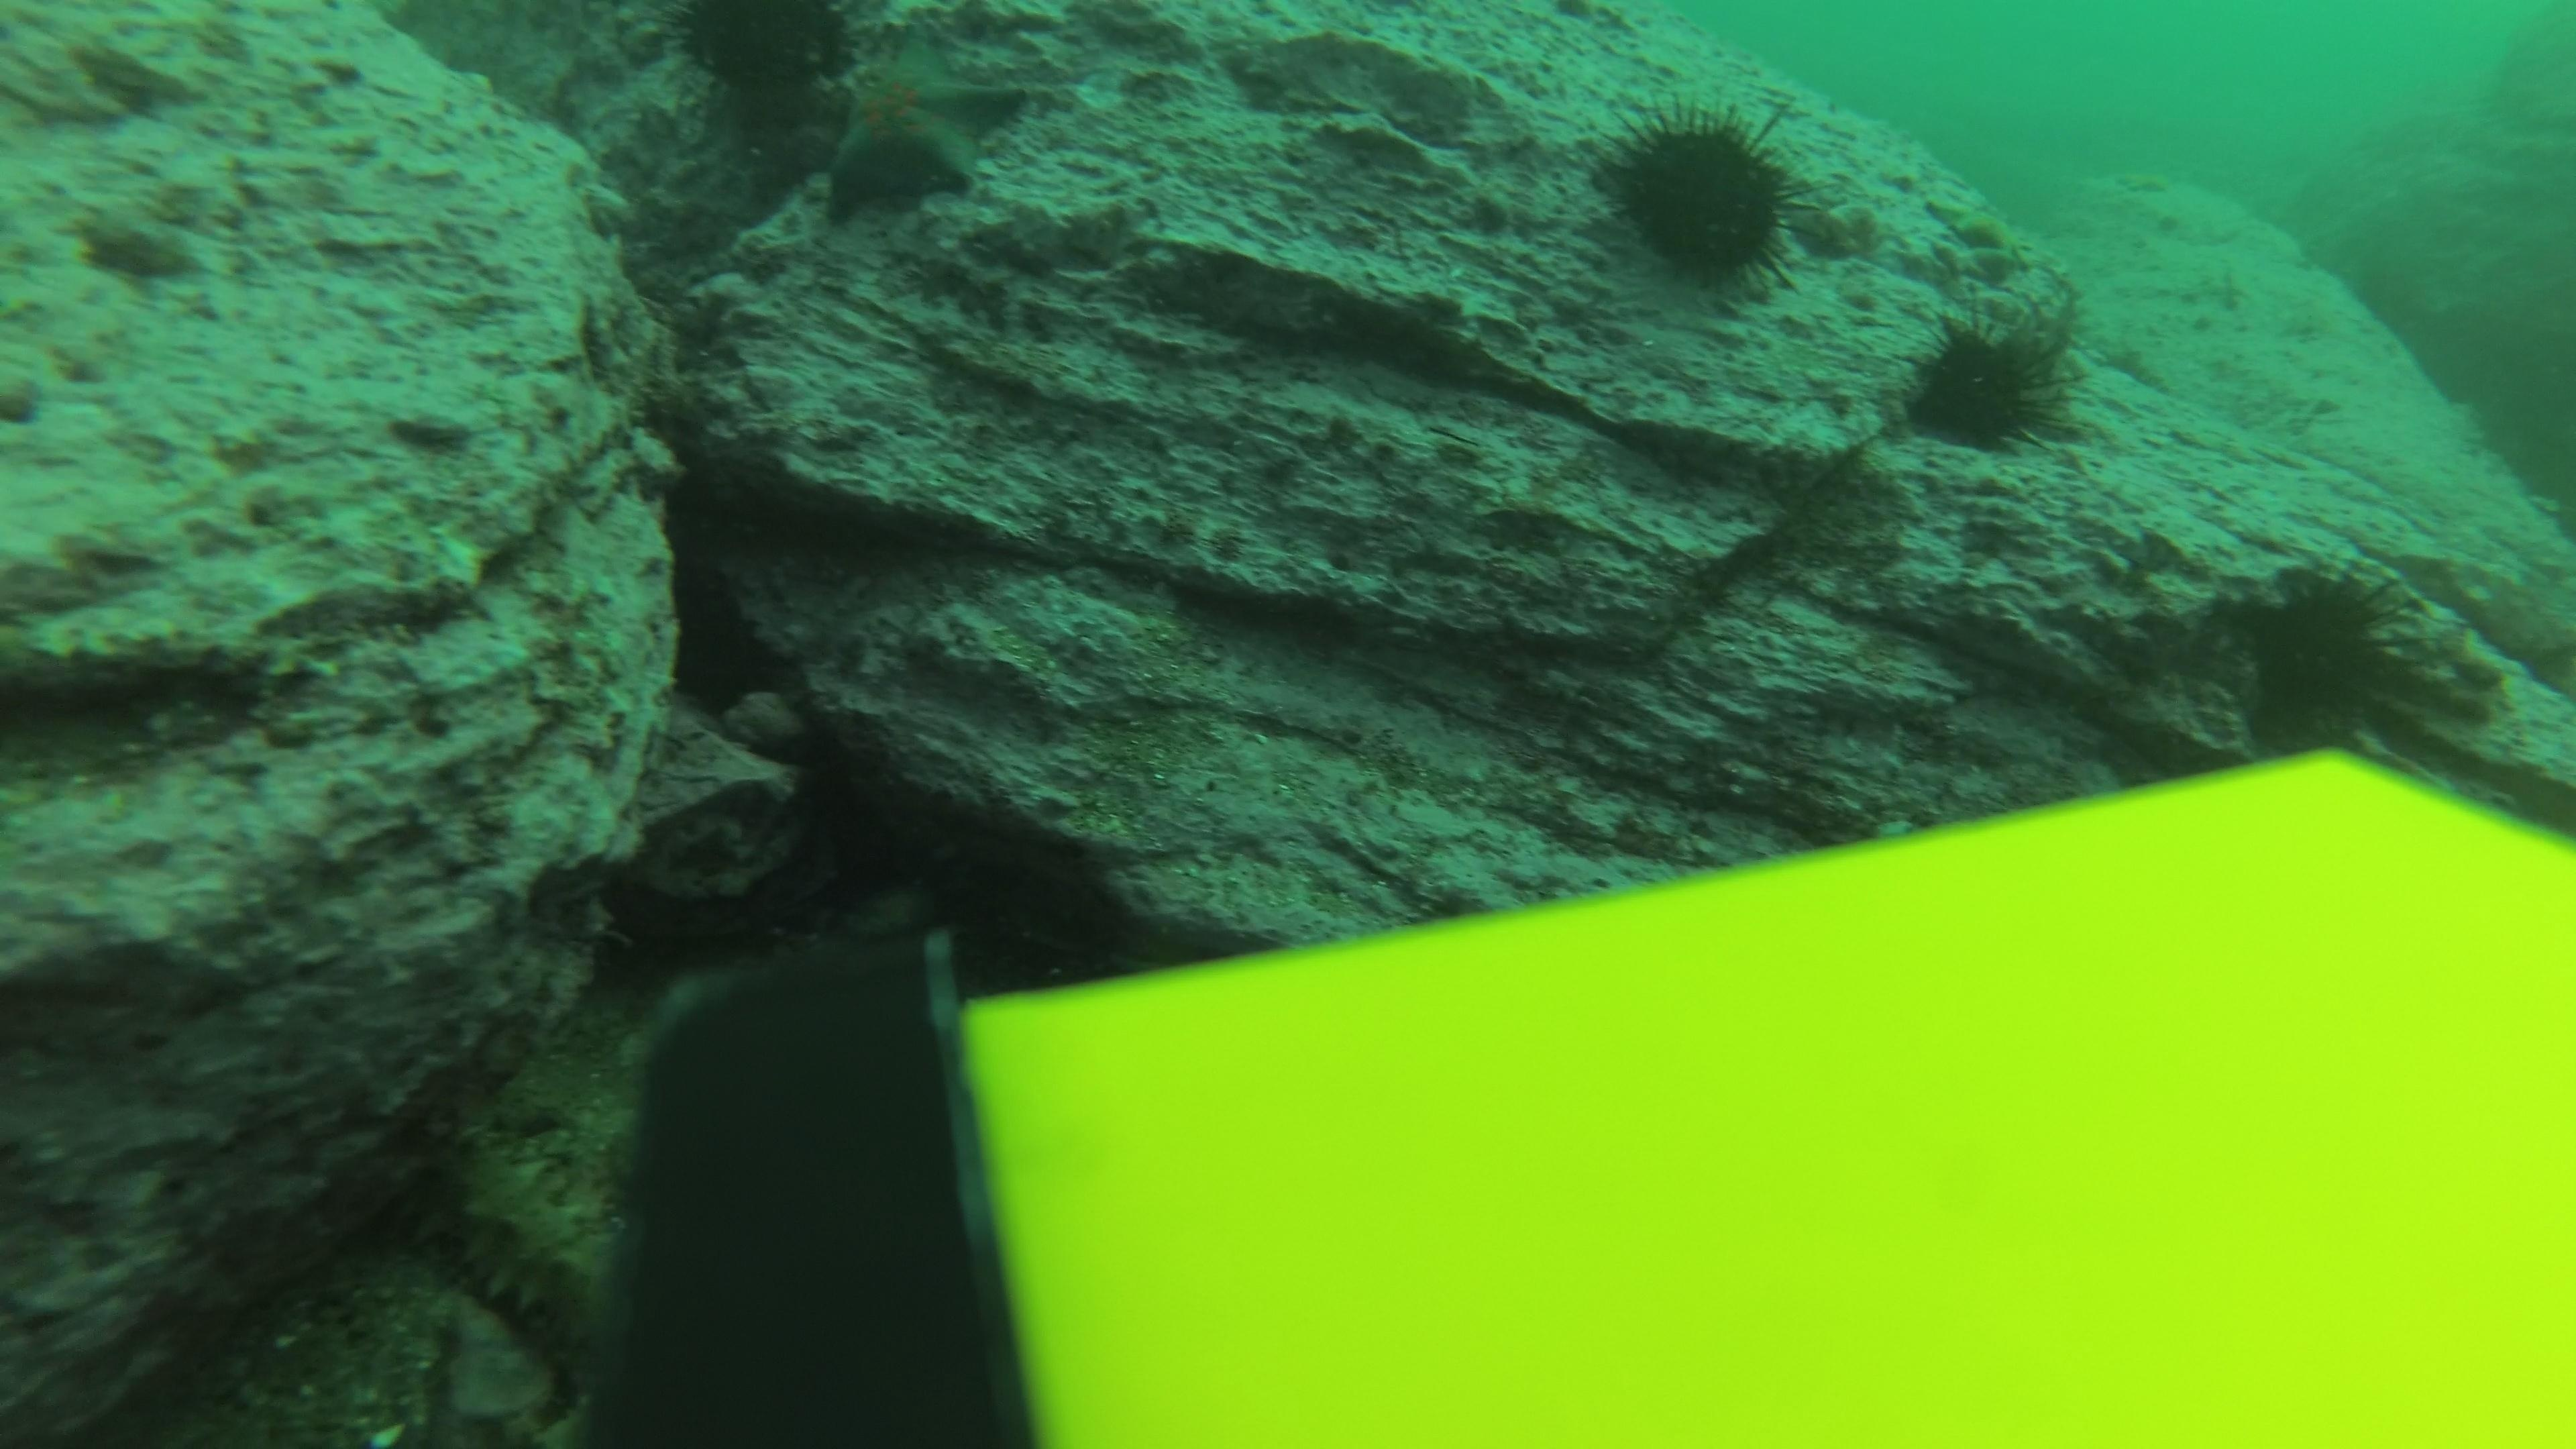echinus: (1594, 92, 1815, 299), (2226, 564, 2429, 750), (1891, 308, 2082, 460), (660, 0, 860, 106)
holothurian: (412, 1104, 616, 1341)
starfish: (809, 28, 1035, 218), (1920, 186, 2035, 264), (2091, 338, 2164, 391)
